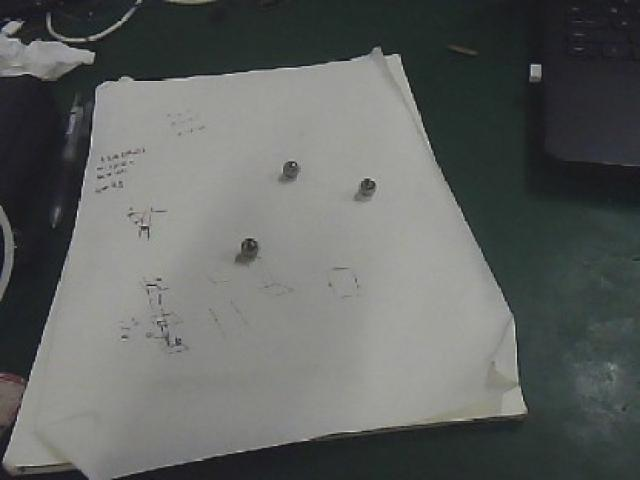steel-ball: (259, 138, 303, 190), (232, 223, 271, 272), (349, 168, 403, 197)
